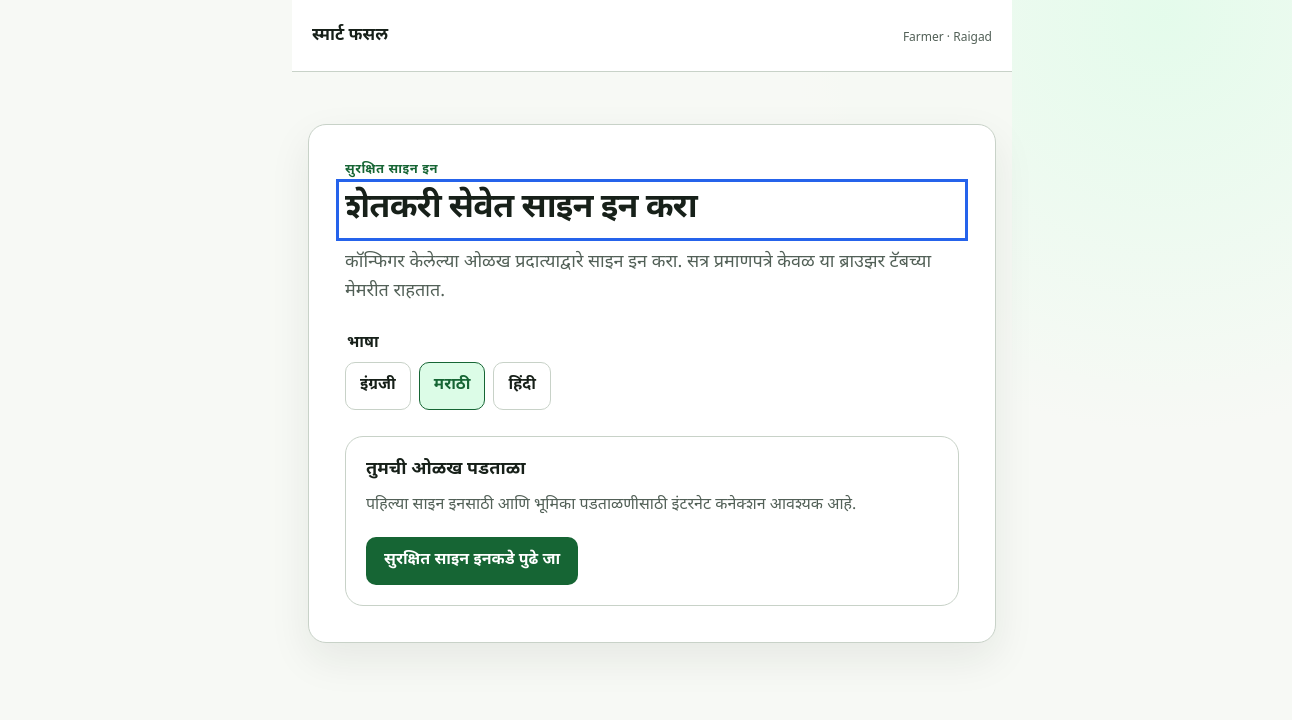
Test: Farmer authentication gateway › keeps the selected role context only in the in-memory provider
Click the button "सुरक्षित साइन इनकडे पुढे जा" at (472,561), box [366,537,578,585]
(page scrolled)
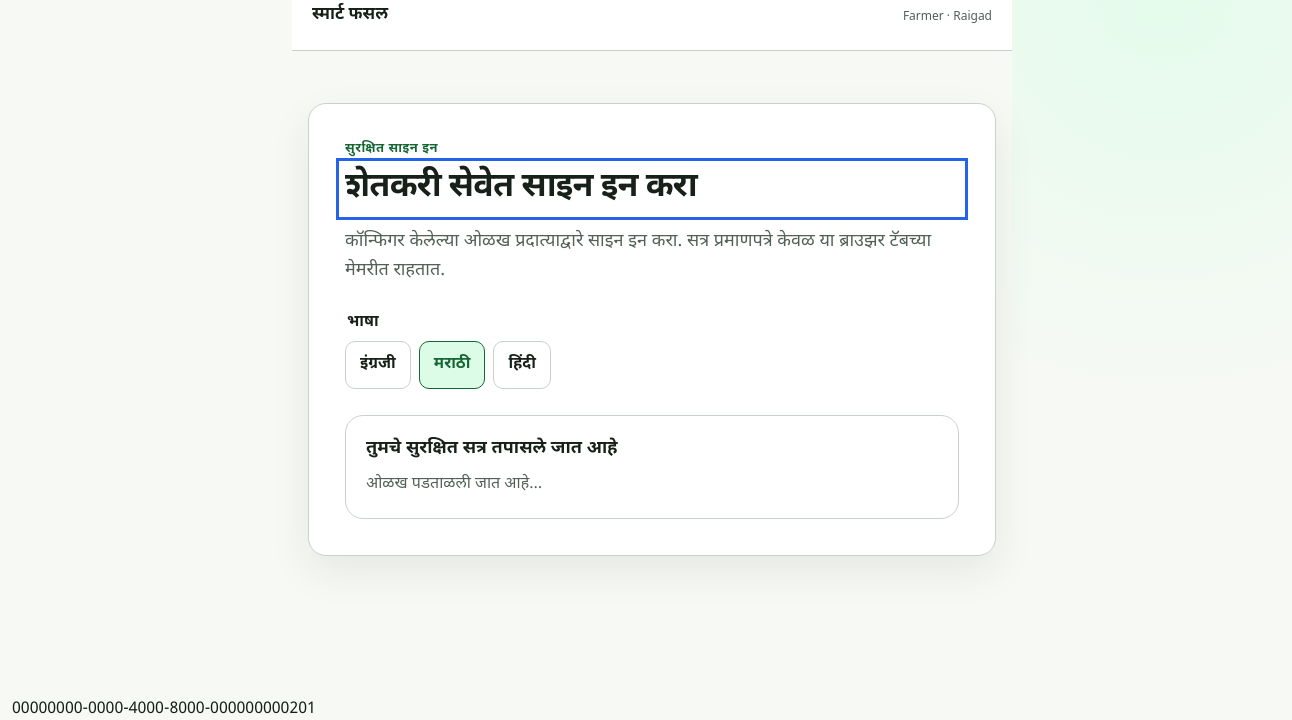
Now the text "00000000-0000-4000-8000-000000000201" is shown, box [12,699,316,719]
